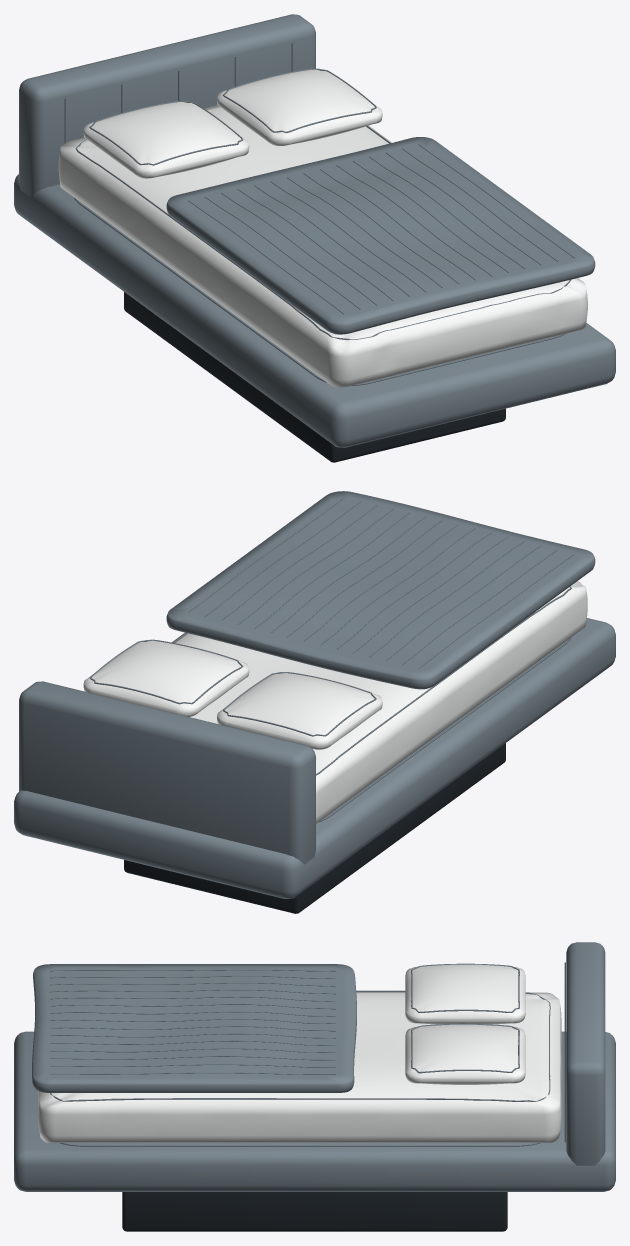
Rendered from single-bed.glb.
3 views of the same model, one above another, from view 1: azimuth 30°, elevation 25°; view 2: azimuth 150°, elevation 25°; view 3: azimuth 270°, elevation 25° (orthographic). The views are drawn at different scales.
Visible parts, largest first — view 1: catalog_surface_RealismUV, catalog_surface_UVMap; view 2: catalog_surface_RealismUV, catalog_surface_UVMap; view 3: catalog_surface_RealismUV, catalog_surface_UVMap.
Part boxes in pixels (x1,y1,x2,y2): catalog_surface_RealismUV: (14, 14, 615, 447); catalog_surface_UVMap: (124, 292, 505, 462); catalog_surface_RealismUV: (14, 491, 615, 898); catalog_surface_UVMap: (124, 743, 505, 913); catalog_surface_RealismUV: (14, 942, 615, 1191); catalog_surface_UVMap: (122, 1192, 507, 1231).
Bounding box in the file's own units: 1 × 0.7 × 2.
